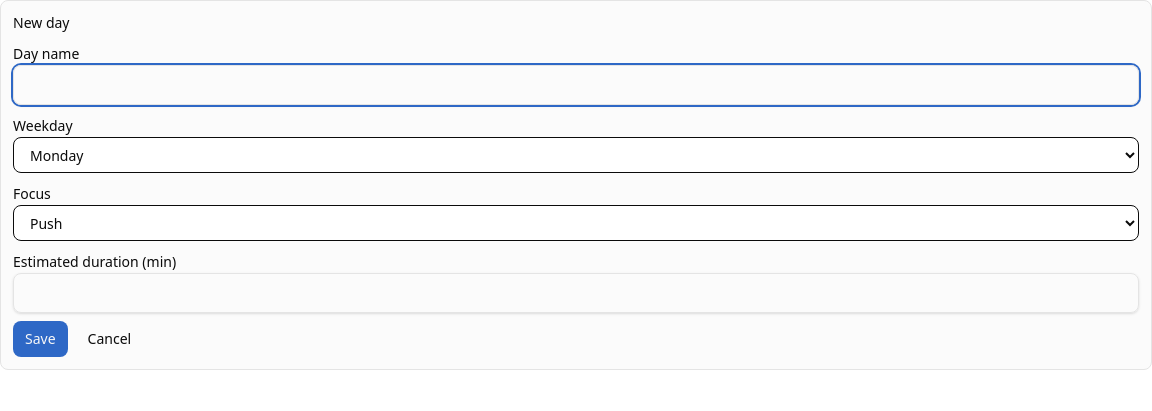
Test case: DayEditDialog › blocks submit with empty name and shows nameRequired
The width and height of the screenshot is (1152, 411).
Click the button "Save" at (40, 339), box [13, 321, 68, 357]
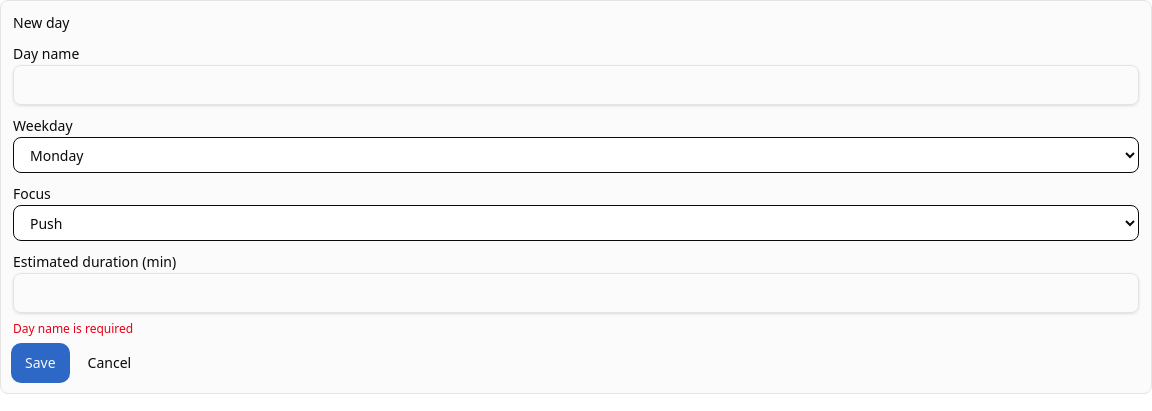
Expected: the text "Day name is required" is shown, [13, 320, 133, 337]
